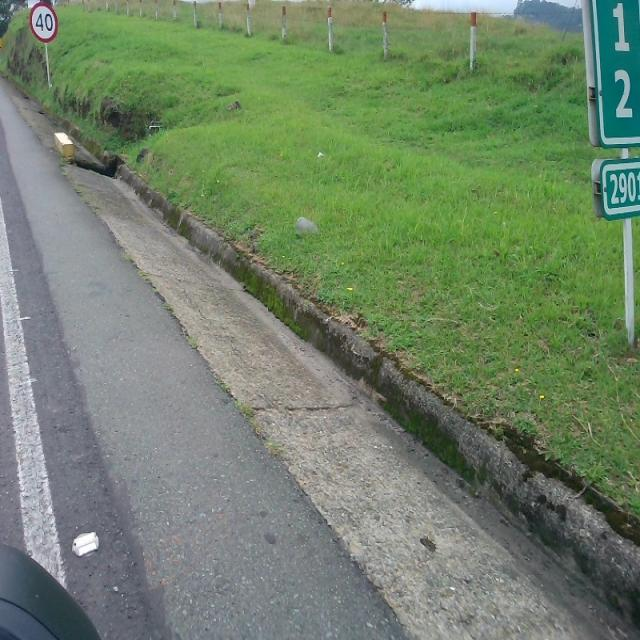DITCH: (1, 31, 638, 638), (1, 68, 638, 638), (2, 72, 638, 638)
